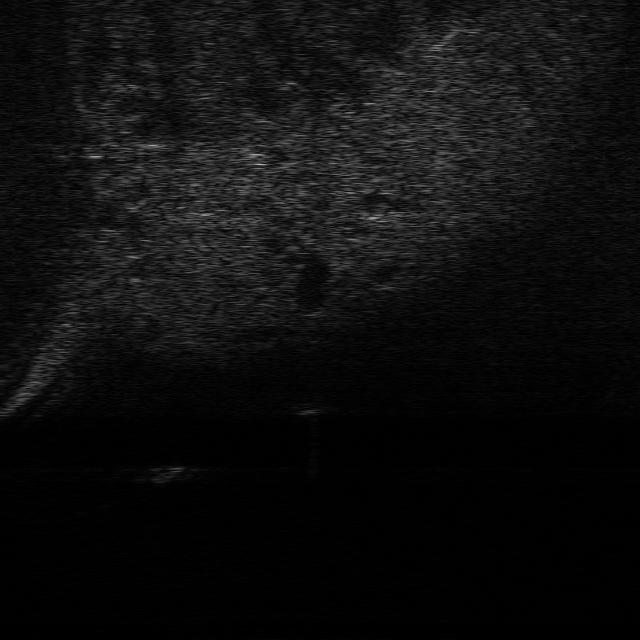cube: (291, 398, 324, 418)
cylinder: (156, 462, 182, 485)
